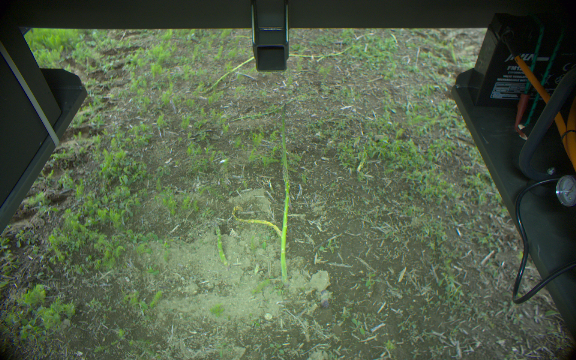aspa: (276, 164, 294, 278), (213, 225, 229, 266), (279, 104, 290, 163)
